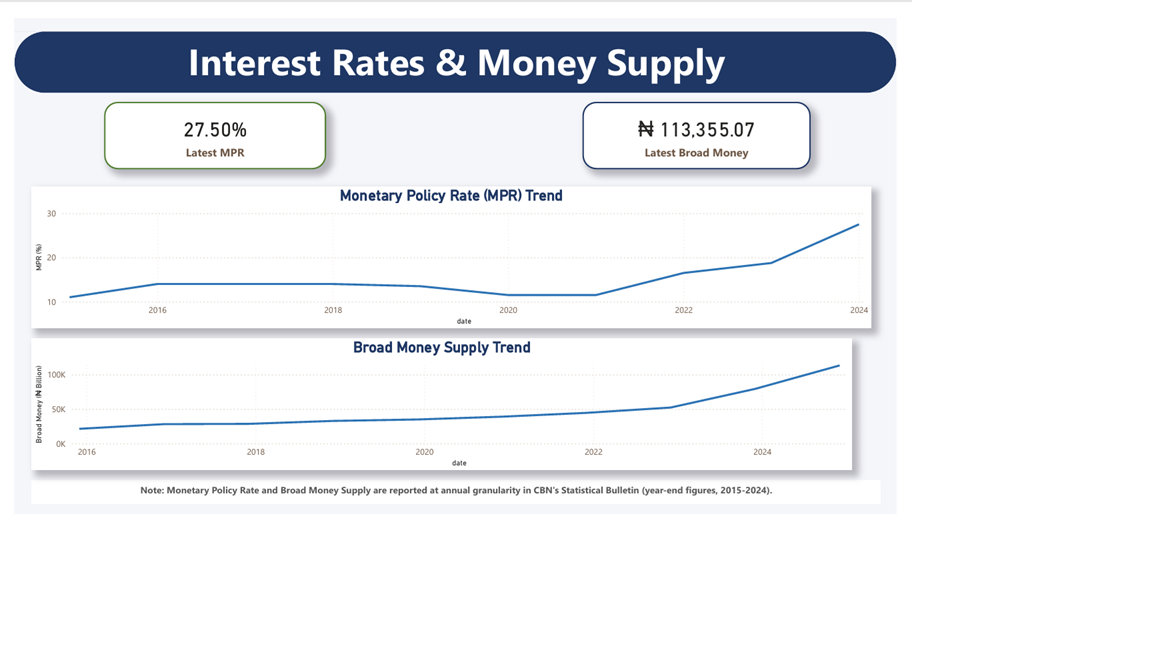

What the dashboard file says about the page in this screenshot:
{"tool":"powerbi","page":{"name":"Interest Rates & Money Supply","canvas":[1280,720],"ordinal":3},"visuals":[{"type":"card","fields":{"Values":["cbn_mpr_clean.Latest MPR"]},"box":[130.4,120.9,321.3,98.3],"z":0},{"type":"card","fields":{"Values":["cbn_money_supply_clean.Latest Broad Money"]},"box":[823.9,120.9,330.7,98.3],"z":1000},{"type":"textbox","box":[24.6,670.9,1232.1,34],"z":2000},{"type":"lineChart","title":"Monetary Policy Rate (MPR) Trend","fields":{"Category":["cbn_mpr_clean.date"],"Y":["Avg(cbn_mpr_clean.mpr)"]},"box":[24.6,243.8,1218.9,206],"z":3000},{"type":"lineChart","title":"Broad Money Supply Trend","fields":{"Category":["cbn_money_supply_clean.date"],"Y":["Avg(cbn_money_supply_clean.broad_money)"]},"box":[24.6,464.9,1190.6,190.9],"z":4000},{"type":"shape","box":[0,18.9,1279.4,88.8],"z":5000},{"type":"textbox","box":[24.6,18.9,1218.9,88.8],"z":6000}]}

Visuals, with their boxes in screenshot pixels (x1, y1, x2, y2), scaled from the page's 1280x720 canvas onto the 1152x648 screenshot:
card - cbn_mpr_clean.Latest MPR: x1=117, y1=109, x2=407, y2=197
card - cbn_money_supply_clean.Latest Broad Money: x1=742, y1=109, x2=1039, y2=197
textbox: x1=22, y1=604, x2=1131, y2=634
"Monetary Policy Rate (MPR) Trend" lineChart: x1=22, y1=219, x2=1119, y2=405
"Broad Money Supply Trend" lineChart: x1=22, y1=418, x2=1094, y2=590
shape: x1=0, y1=17, x2=1151, y2=97
textbox: x1=22, y1=17, x2=1119, y2=97
